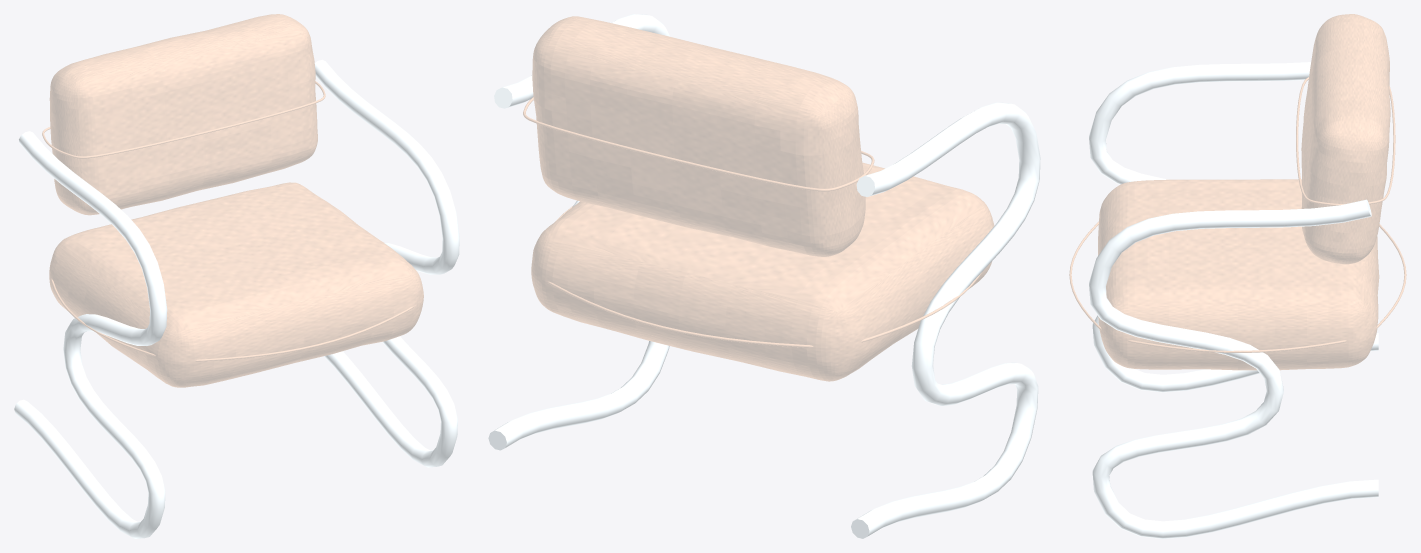
Rendered from ref07_08.glb.
3 views of the same model, side by side, from view 1: azimuth 30°, elevation 25°; view 2: azimuth 150°, elevation 25°; view 3: azimuth 270°, elevation 25° (orthographic). The views are drawn at different scales.
Parts seen in each view (by area): view 1: ref07_08; view 2: ref07_08; view 3: ref07_08.
Part boxes in pixels (x1,y1,x2,y2): ref07_08: (14,14,459,538); ref07_08: (488,14,1040,538); ref07_08: (1069,14,1406,538).
Size of the model in its own units: 0.7818 by 0.942 by 0.7197.
2 materials, 1 textured.
